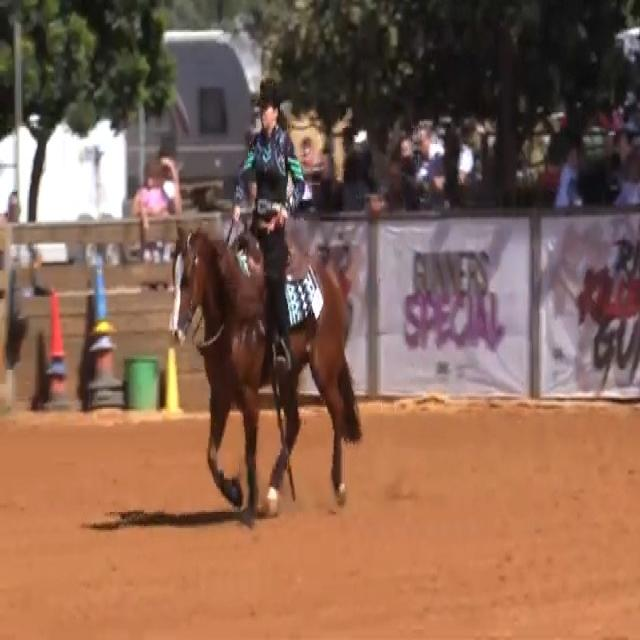horse: (168, 218, 364, 524)
